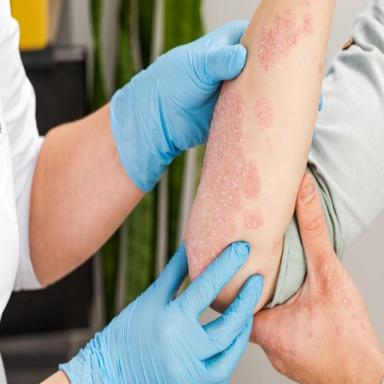Psoriasis: (185, 83, 259, 281), (257, 10, 313, 71), (255, 97, 274, 130), (243, 207, 263, 230)
